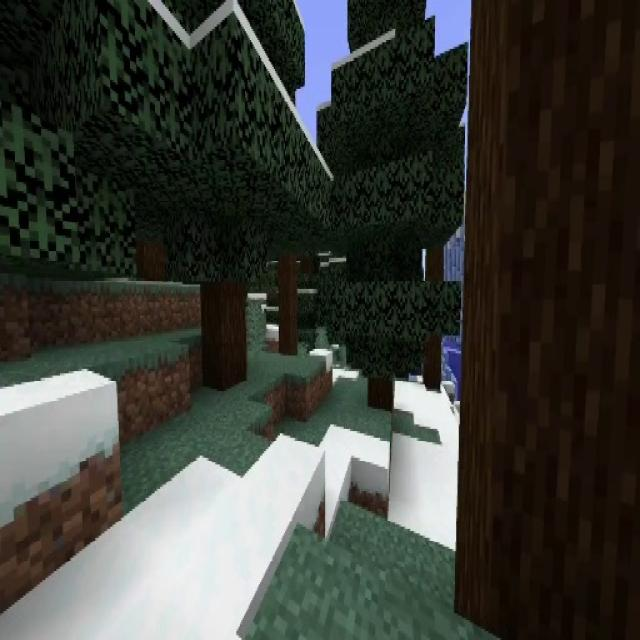spruce: (95, 0, 330, 388), (318, 0, 470, 407)
spruce_log: (459, 0, 640, 640), (200, 284, 248, 391), (426, 251, 444, 387), (278, 250, 298, 356), (366, 376, 394, 408)
